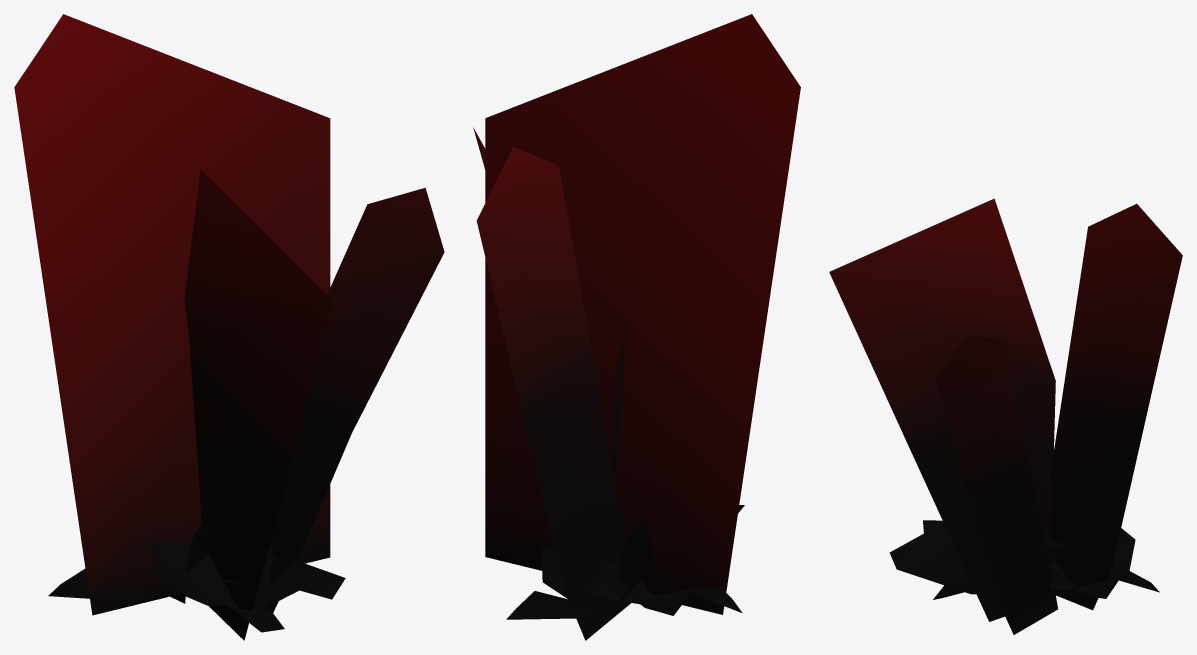
File: herb_03.FBX
3 renders of one model, left to right at view 1: azimuth 30°, elevation 25°; view 2: azimuth 150°, elevation 25°; view 3: azimuth 270°, elevation 25°, orthographic. The views are drawn at different scales.
Visible parts, largest first — view 1: herb_03_LOD0; view 2: herb_03_LOD0; view 3: herb_03_LOD0.
Boxes of the visible parts, x1,y1,x2,y2 form: herb_03_LOD0: (14,14,444,640); herb_03_LOD0: (473,14,800,640); herb_03_LOD0: (829,198,1182,634).
Size of what is drawn, in the model's own units: 59.71 by 99.17 by 58.31.
